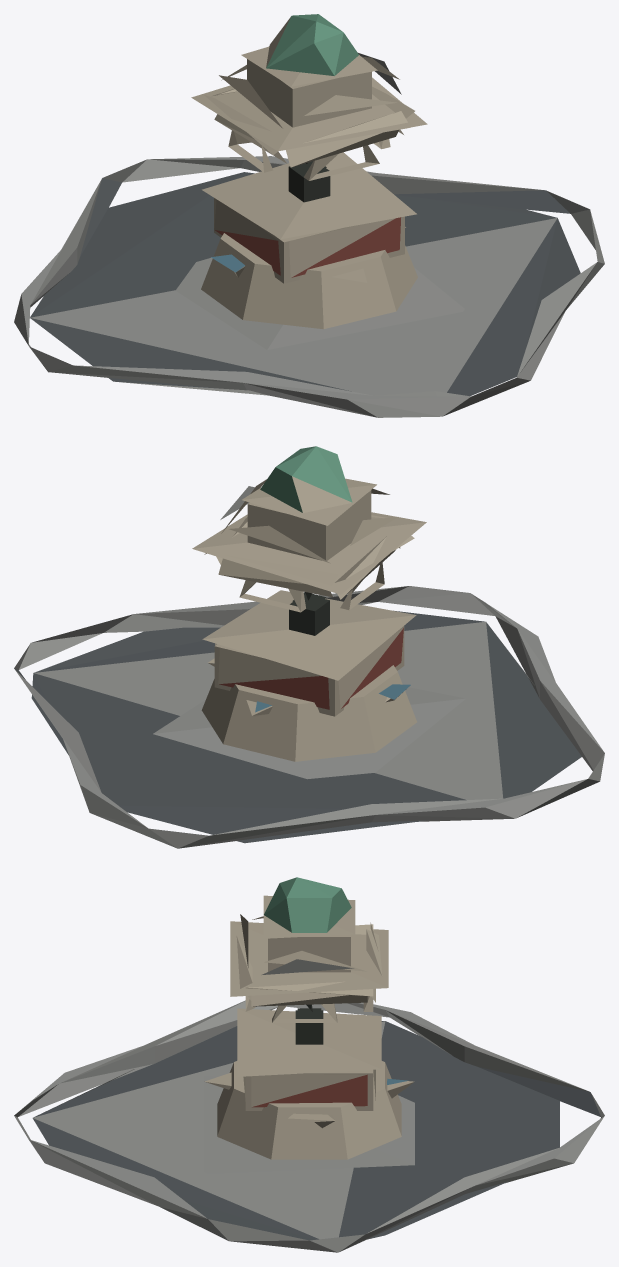
The model's file is sarphatimonument.lod2.glb.
The picture shows the model from 3 angles, top to bottom: view 1: azimuth 30°, elevation 25°; view 2: azimuth 150°, elevation 25°; view 3: azimuth 270°, elevation 25°; orthographic projection. The views are drawn at different scales.
Visible parts, largest first — view 1: lod2; view 2: lod2; view 3: lod2.
Part boxes in pixels (<box>): lod2: <box>14,14,604,417</box>; lod2: <box>14,446,604,848</box>; lod2: <box>14,877,604,1252</box>.
Size of the model in its own units: 21.3 by 10.03 by 21.3.
